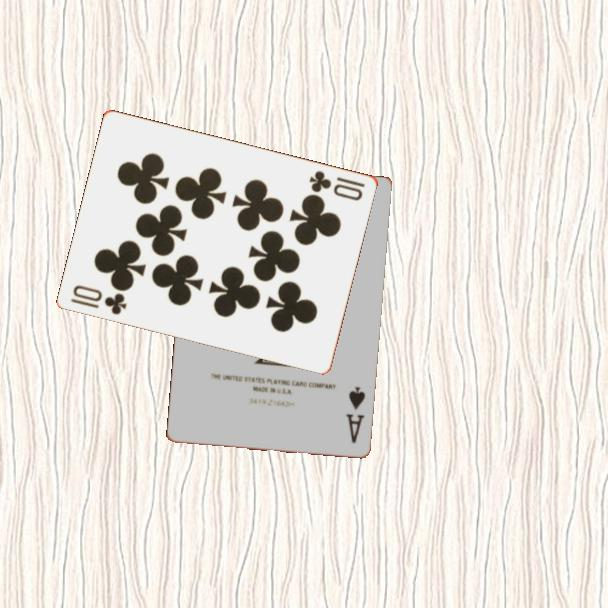c10: (306, 167, 368, 203), (68, 281, 130, 317)
s01: (342, 383, 368, 446)
